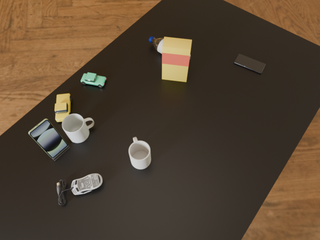bottle: (149, 36, 191, 57)
box: (162, 37, 192, 82)
cup: (62, 114, 94, 143), (129, 137, 151, 169)
mouse: (70, 174, 102, 195)
phone: (29, 119, 67, 158), (234, 54, 265, 74)
toy_car: (55, 94, 72, 122), (81, 73, 106, 87)
